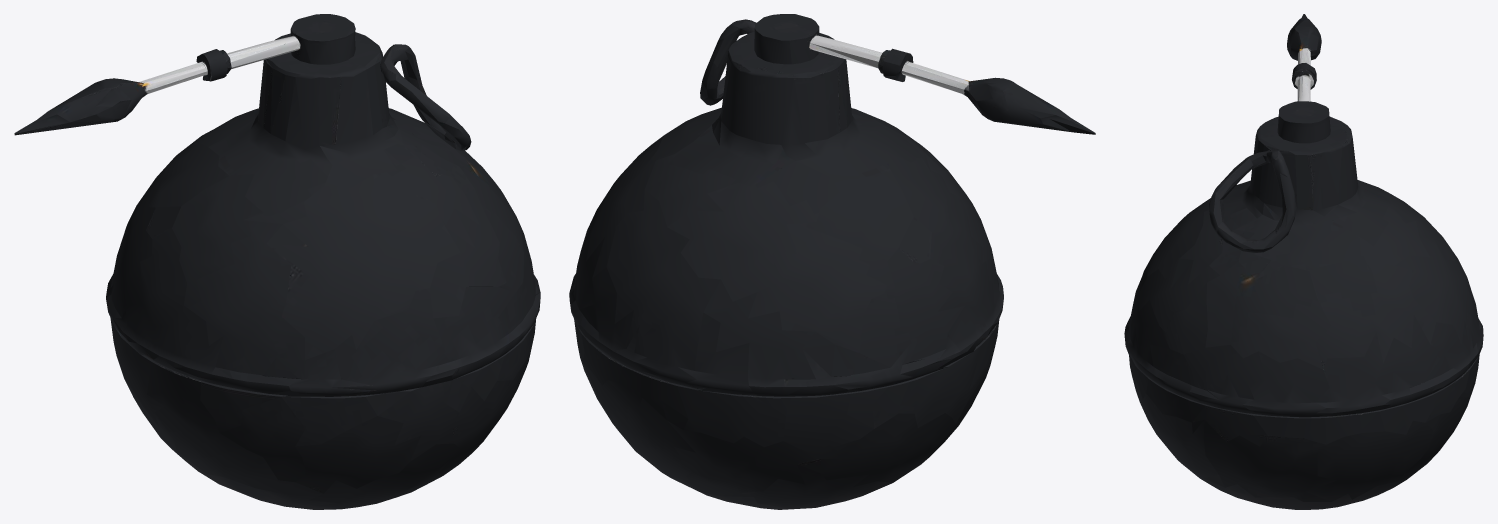
Rendered from bomba-low.glb.
3 views of the same model, side by side, from view 1: azimuth 30°, elevation 25°; view 2: azimuth 150°, elevation 25°; view 3: azimuth 270°, elevation 25° (orthographic). The views are drawn at different scales.
Size of the model in its own units: 1.9 by 1.68 by 1.44.
Materials: 1 (1 with a texture image).
